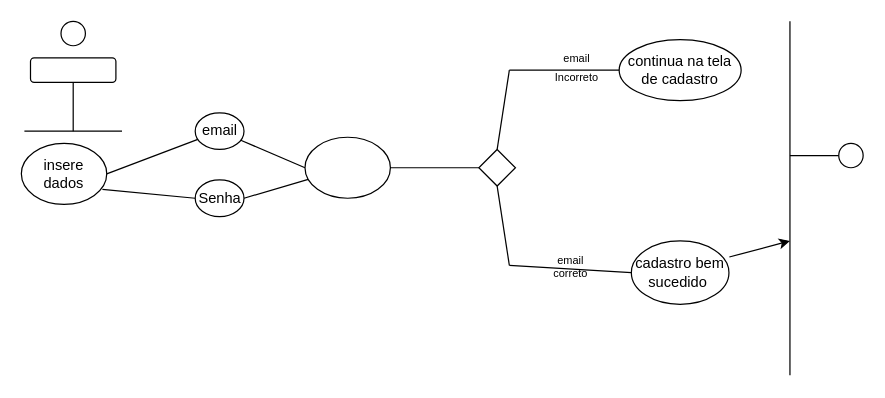
Some shapes in this 885 by 398 pixel diagram are drawn without their labels. The centre of each missing label's shape, as x and y in pixels:
"Cadastro" goes at point (72, 69).
"Verificação de dados" goes at point (347, 167).
